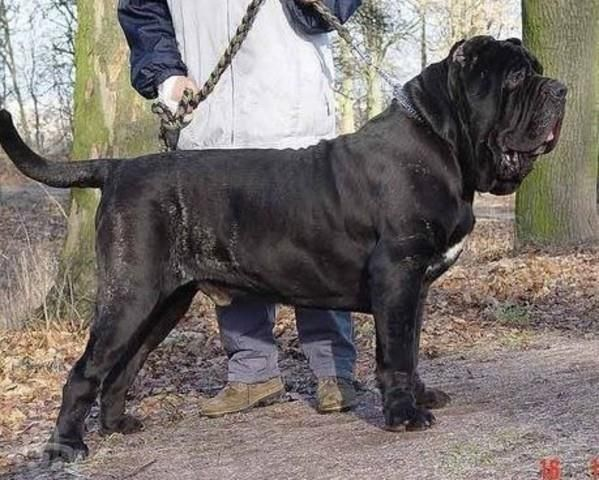neapolitan_mastiff: (0, 33, 568, 462)
person: (116, 0, 366, 418)
